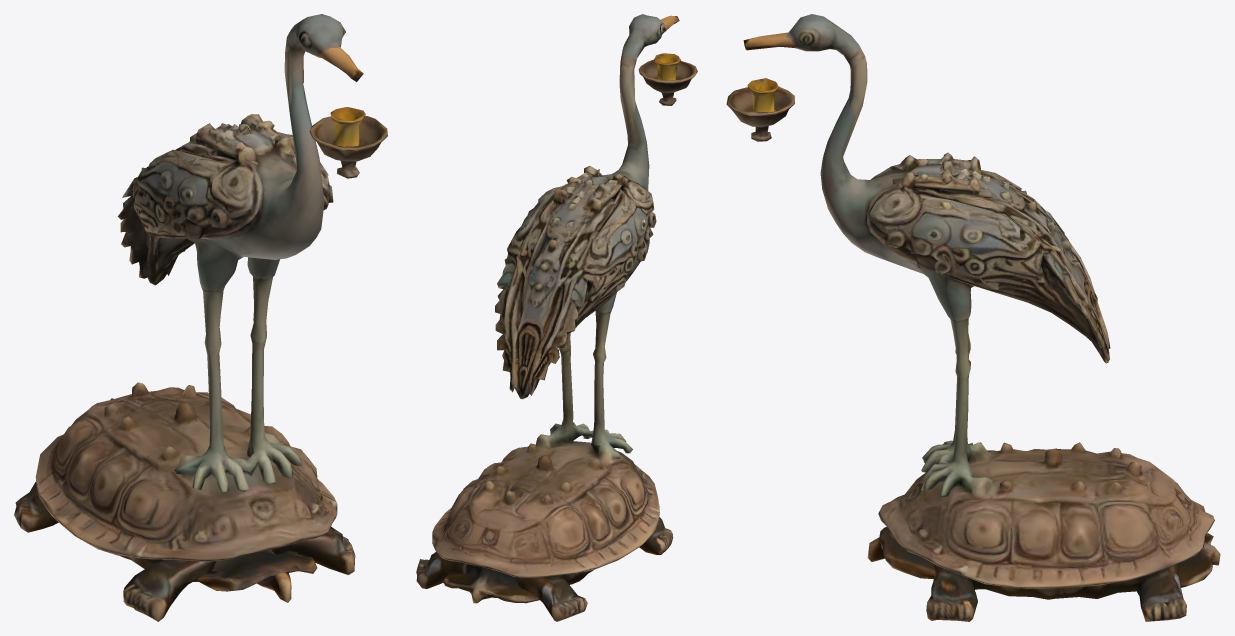
The model's file is hezhu.glb.
3 renders of one model, left to right at view 1: azimuth 30°, elevation 25°; view 2: azimuth 150°, elevation 25°; view 3: azimuth 270°, elevation 25°, orthographic. The views are drawn at different scales.
Visible parts, largest first — view 1: tripo_node_f526165d-42ae-491a-98fe-34049f78cb22; view 2: tripo_node_f526165d-42ae-491a-98fe-34049f78cb22; view 3: tripo_node_f526165d-42ae-491a-98fe-34049f78cb22.
Boxes of the visible parts, <box> form: tripo_node_f526165d-42ae-491a-98fe-34049f78cb22: <box>14,14,387,621</box>; tripo_node_f526165d-42ae-491a-98fe-34049f78cb22: <box>416,14,697,621</box>; tripo_node_f526165d-42ae-491a-98fe-34049f78cb22: <box>726,14,1220,621</box>.
Bounding box in the file's own units: 0.3974 × 1 × 0.7945.
1 material, 1 textured.
